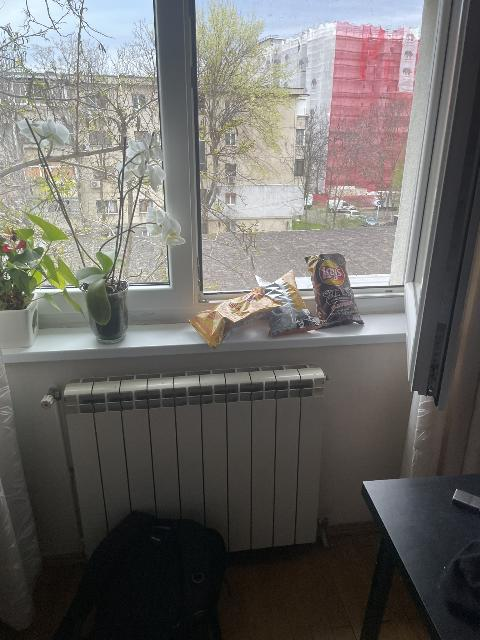Chio Cascaval 125g: (256, 271, 317, 336)
Chio Hula Hoops Cheese 70g: (191, 285, 277, 347)
Lays Beef Grilled Ribs 125g: (309, 251, 369, 328)
